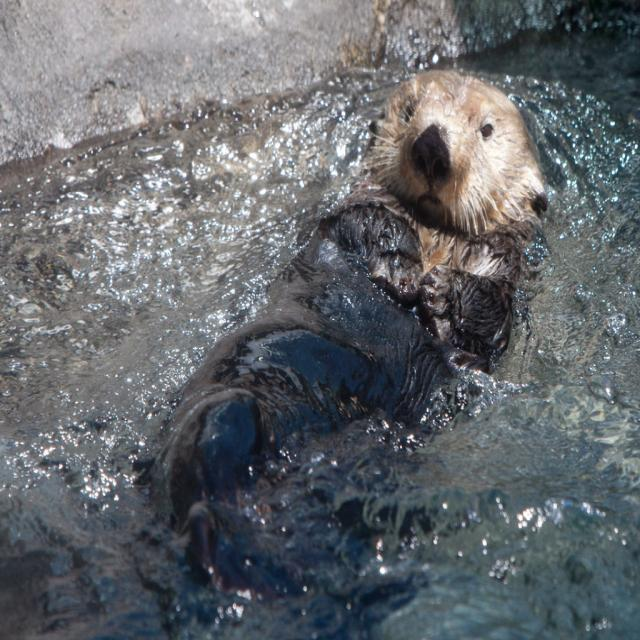otter: (320, 71, 542, 371)
